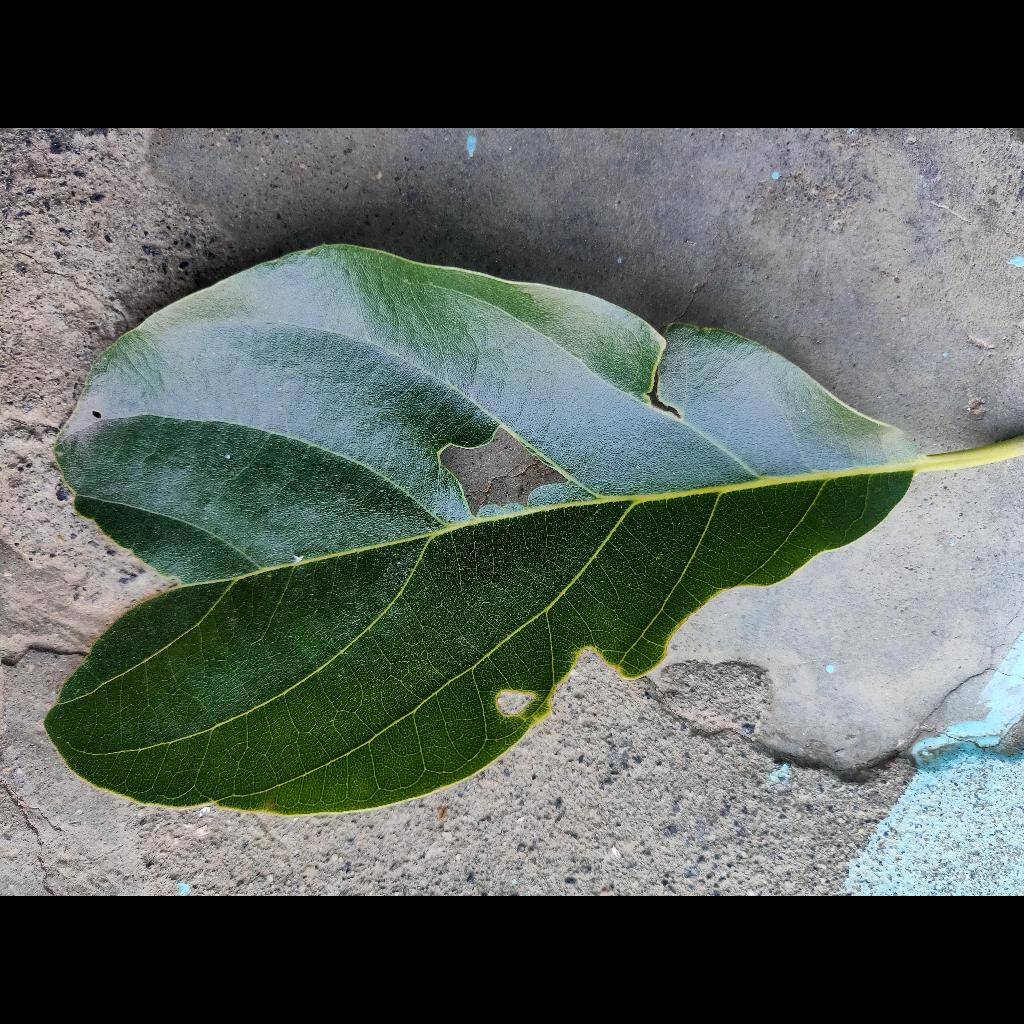Pest attack: (423, 411, 607, 519)
